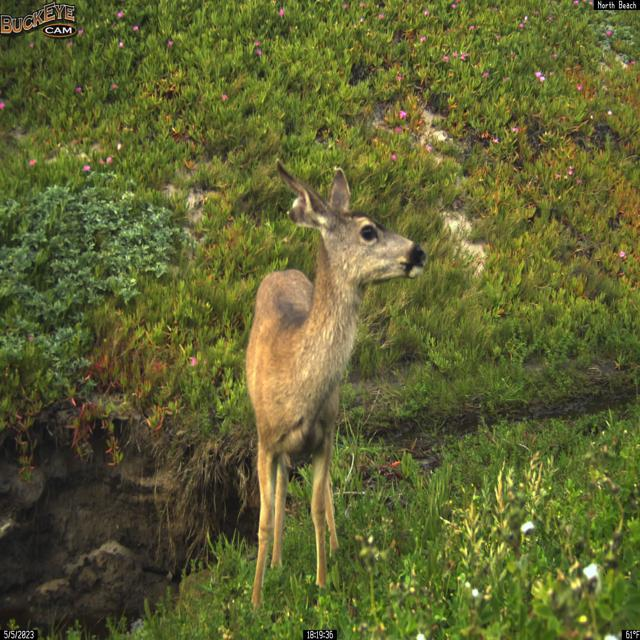deer: (244, 158, 427, 614)
